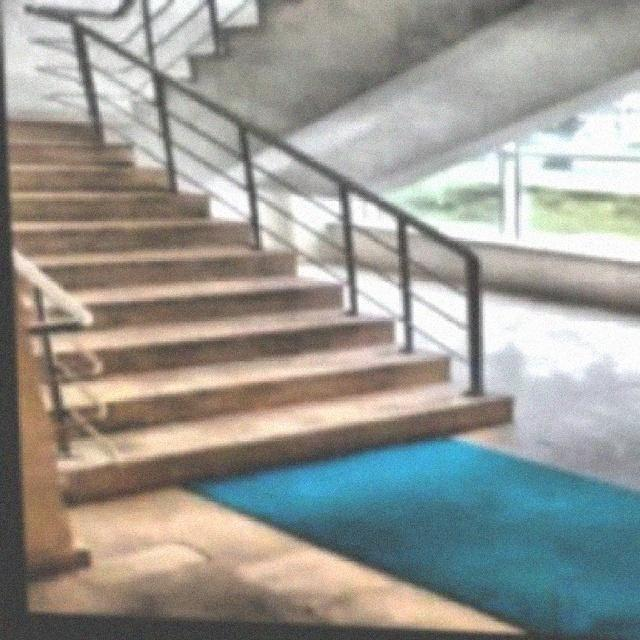stair: (6, 114, 557, 534)
